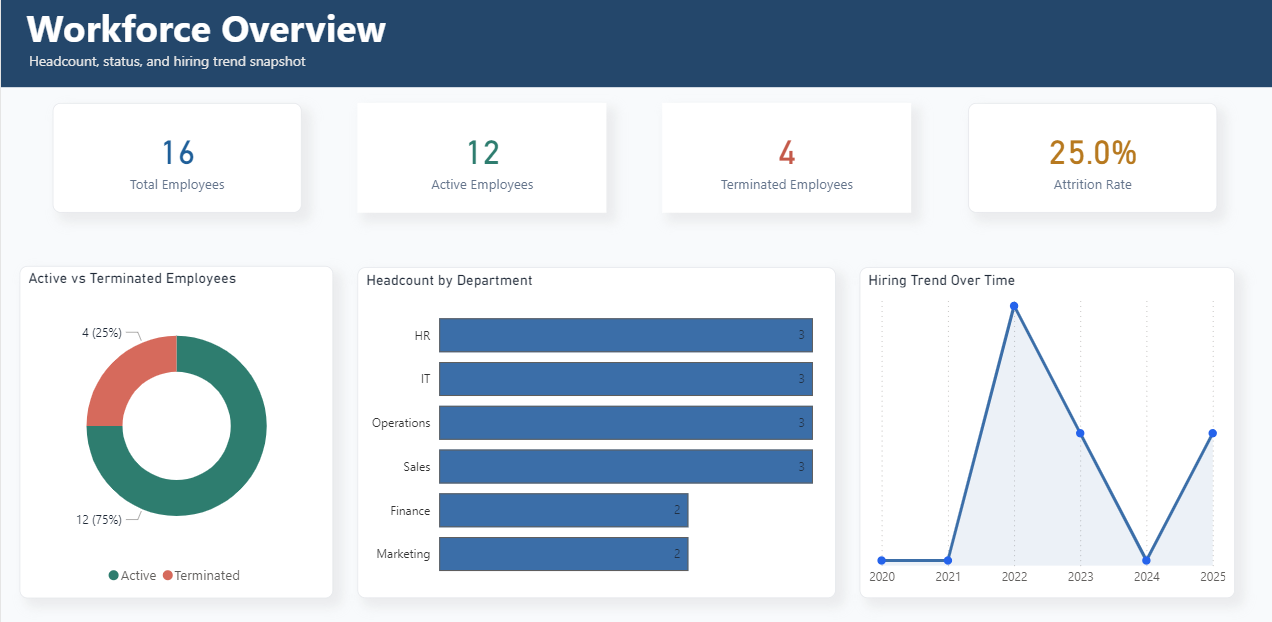

The page's visual inventory and layout, read from the dashboard file:
{"tool":"powerbi","page":{"name":" Page 1: Workforce Overview ","canvas":[1280,720],"ordinal":0},"visuals":[{"type":"card","fields":{"Values":["cleaned_master_data.Total Employees"]},"box":[51.8,118.3,250,110],"z":0,"group":"g1"},{"type":"donutChart","title":"Active vs Terminated Employees","fields":{"Category":["cleaned_master_data.employee_status"],"Y":["CountNonNull(cleaned_master_data.employee_id)"]},"box":[18.6,281.8,315.1,333.7],"z":0},{"type":"card","fields":{"Values":["cleaned_master_data.Active Employees"]},"box":[357.9,118.3,250,110],"z":1000,"group":"g1"},{"type":"clusteredBarChart","title":"Headcount by Department","fields":{"Category":["cleaned_master_data.department"],"Y":["CountNonNull(cleaned_master_data.employee_id)"]},"box":[357.6,283.2,479.9,332.4],"z":1000},{"type":"card","fields":{"Values":["cleaned_master_data.Terminated Employees"]},"box":[664,118.3,250,110],"z":2000,"group":"g1"},{"type":"lineChart","title":"Hiring Trend Over Time","fields":{"Category":["cleaned_master_data.hire_date.Variation.Date Hierarchy.Year","cleaned_master_data.hire_date.Variation.Date Hierarchy.Month"],"Y":["CountNonNull(cleaned_master_data.employee_id)"]},"box":[861.5,283.2,376.2,332.4],"z":2000},{"type":"textbox","box":[0,12,1280.3,90.4],"z":3000},{"type":"card","fields":{"Values":["cleaned_master_data.Attrition Rate"]},"box":[970.1,118.3,250,110],"z":3000,"group":"g1"},{"type":"group","id":"g1","title":"Group 1","box":[51.8,118.3,1168.6,109],"z":4000}]}

Visuals, with their boxes on the page's 1280x720 design canvas (x1, y1, x2, y2). These are canvas units, not pixel positions in the 1272x622 screenshot, which may show the page scaled, cropped or inside an application window:
card - cleaned_master_data.Total Employees: Rect(52, 118, 302, 228)
"Active vs Terminated Employees" donutChart: Rect(19, 282, 334, 616)
card - cleaned_master_data.Active Employees: Rect(358, 118, 608, 228)
"Headcount by Department" clusteredBarChart: Rect(358, 283, 838, 616)
card - cleaned_master_data.Terminated Employees: Rect(664, 118, 914, 228)
"Hiring Trend Over Time" lineChart: Rect(862, 283, 1238, 616)
textbox: Rect(0, 12, 1280, 102)
card - cleaned_master_data.Attrition Rate: Rect(970, 118, 1220, 228)
"Group 1" group: Rect(52, 118, 1220, 227)
